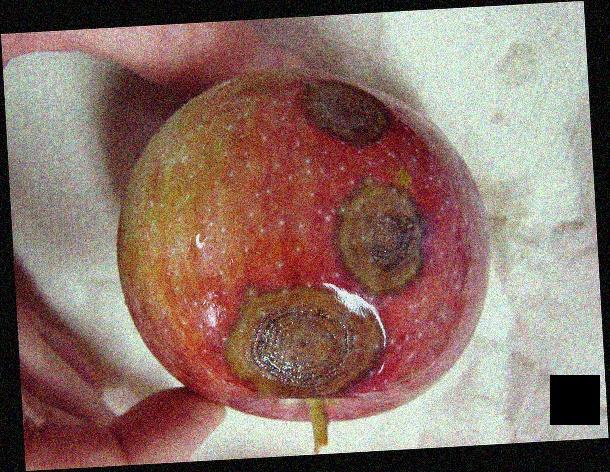rotten apple: (114, 71, 488, 427)
